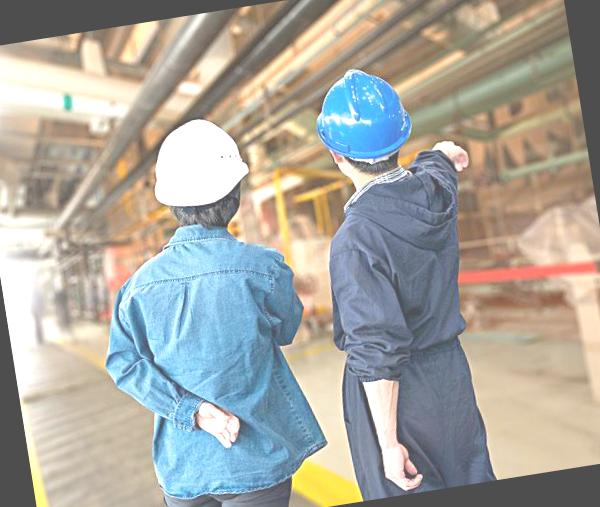helmet: (130, 114, 270, 228), (308, 60, 432, 174)
no_vest: (97, 209, 321, 502), (294, 150, 494, 401)
person: (283, 48, 535, 500), (87, 102, 338, 507)
